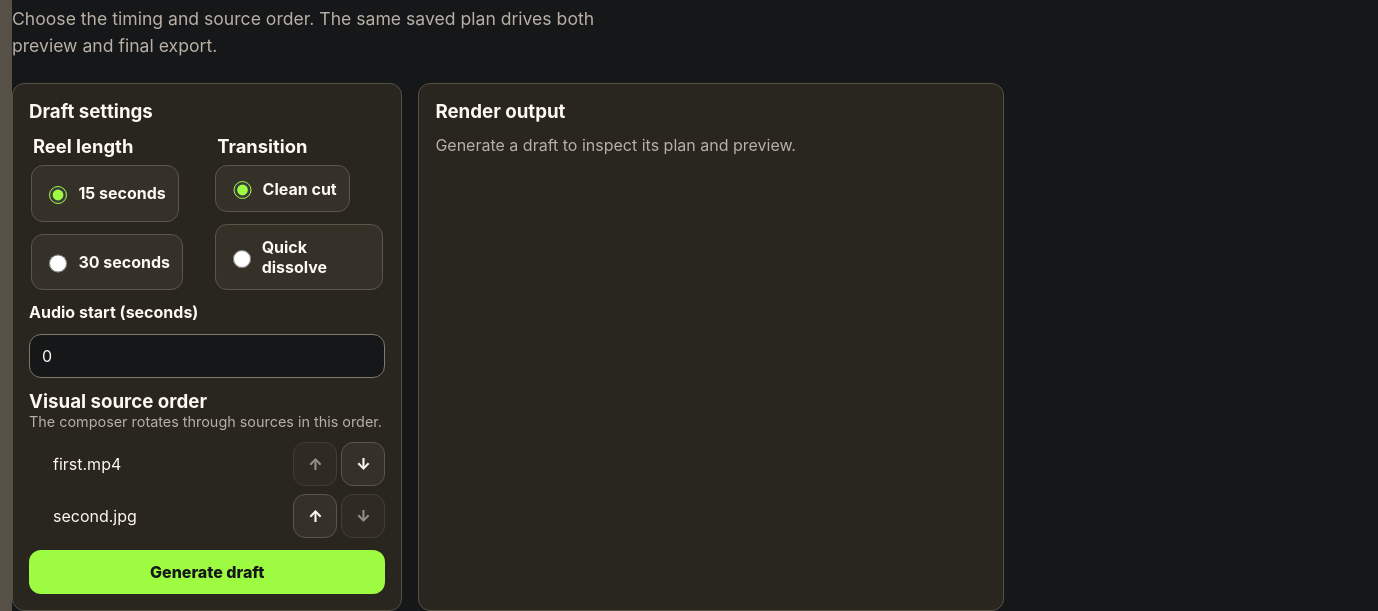
shows the deterministic shot order and rationale before rendering completes
(page scrolled)
Click the button "Generate draft" at (207, 572), box [29, 550, 385, 594]
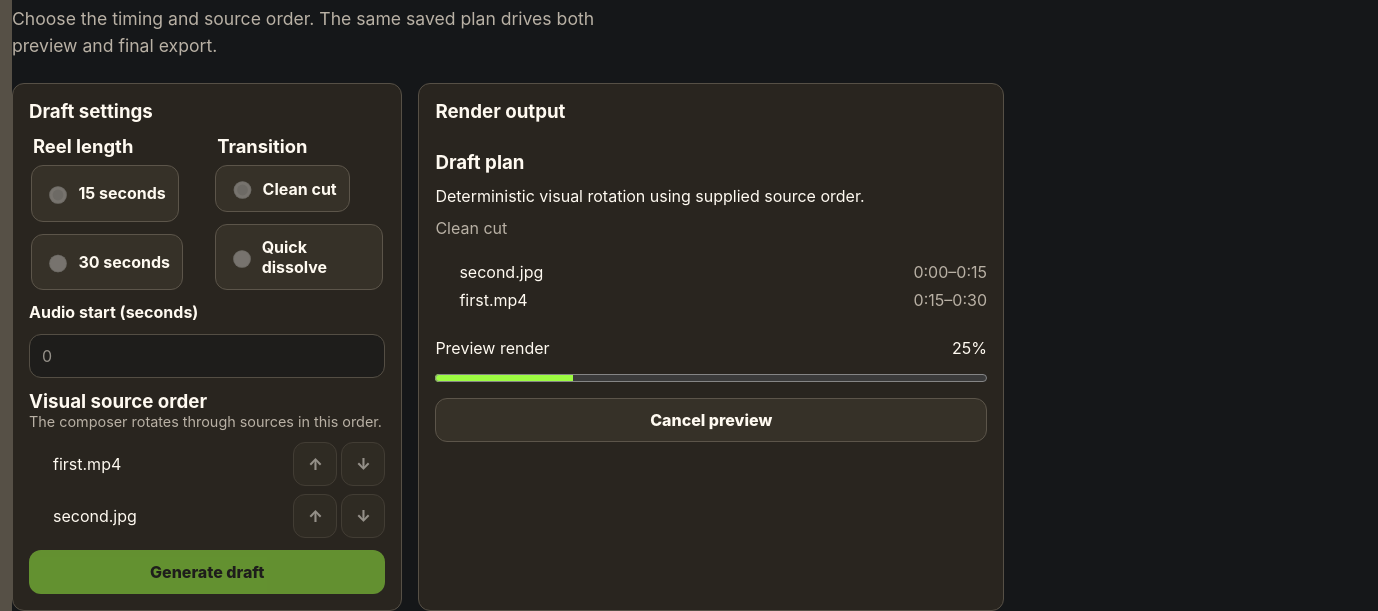
Check: the text "Deterministic visual rotation using supplied source order." is shown, box [435, 186, 865, 206]
Check: the list item "second.jpg 0:00–0:15" is shown, box [459, 262, 987, 282]
Check: the list item "first.mp4 0:15–0:30" is shown, box [459, 290, 987, 310]
